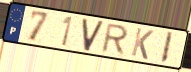1: (61, 16, 74, 48)
7: (29, 9, 49, 43)
I: (159, 30, 175, 65)
K: (130, 26, 155, 61)
R: (99, 23, 130, 57)
V: (81, 17, 106, 53)
